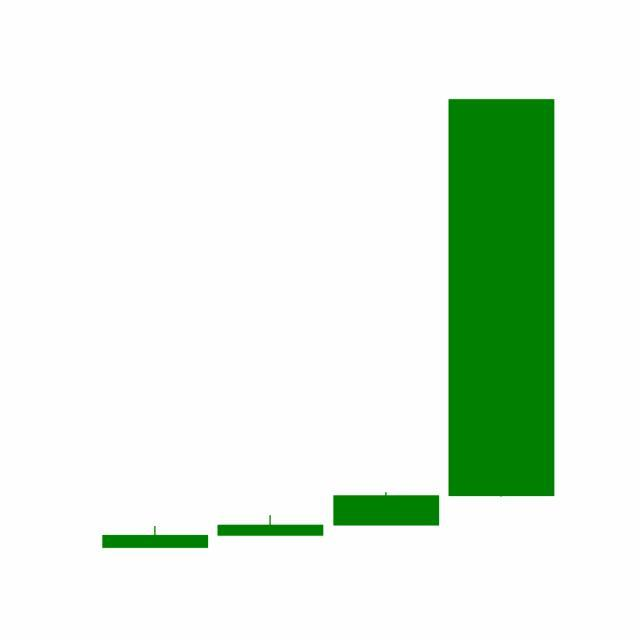Marubozu: (444, 95, 560, 502)
